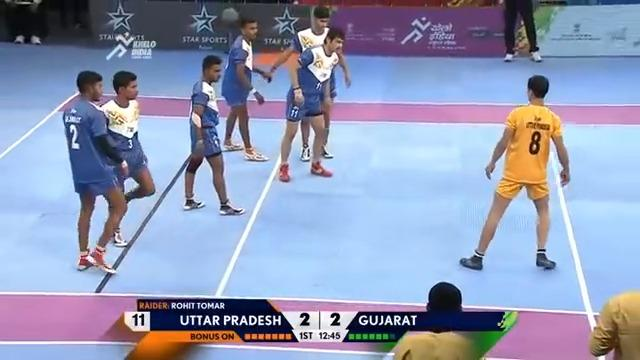Player: (180, 52, 246, 217), (55, 73, 115, 252), (102, 62, 155, 204), (299, 32, 359, 157), (214, 10, 263, 139), (293, 7, 332, 92)
Raider: (457, 72, 572, 273)
referee: (384, 281, 519, 359), (587, 290, 639, 359), (501, 0, 543, 62), (3, 0, 47, 44)
